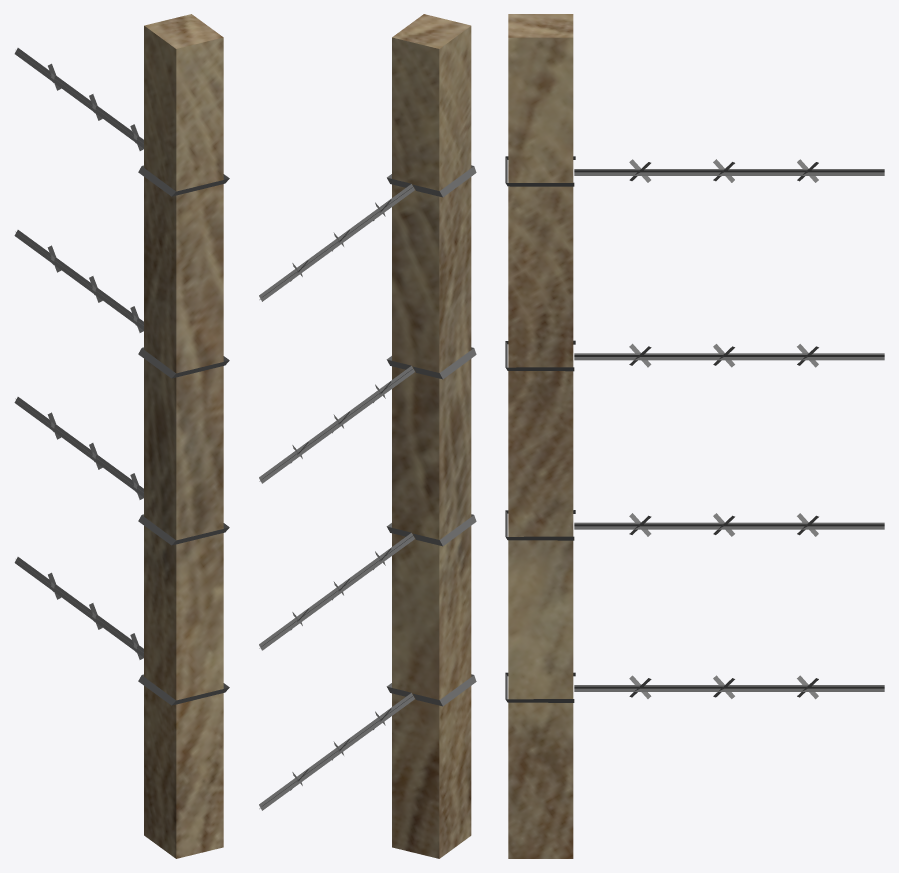
Rendered from barbed-fence-small-no-angle.glb.
3 renders of one model, left to right at view 1: azimuth 30°, elevation 25°; view 2: azimuth 150°, elevation 25°; view 3: azimuth 270°, elevation 25°, orthographic.
Visible parts, largest first — view 1: Cube.026; view 2: Cube.026; view 3: Cube.026.
Part boxes in pixels (x1,y1,x2,y2): Cube.026: [14, 14, 229, 858]; Cube.026: [259, 14, 476, 858]; Cube.026: [505, 14, 884, 858].
Size of the model in its own units: 0.0941 by 1.28 by 0.5339.
Materials: 3 (1 with a texture image).
